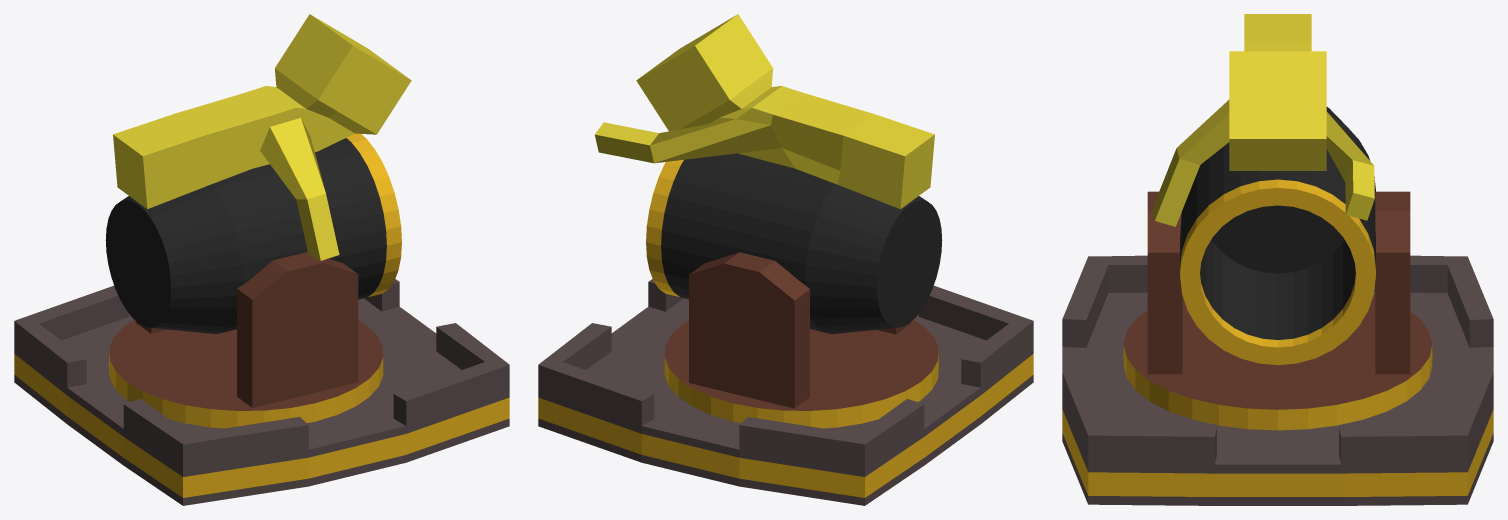
Rendered from CannonTowerUpgrade.fbx.
The picture shows the model from 3 angles, left to right: view 1: azimuth 30°, elevation 25°; view 2: azimuth 150°, elevation 25°; view 3: azimuth 270°, elevation 25°; orthographic projection. The views are drawn at different scales.
Visible parts, largest first — view 1: Cannon, Cannon Tower; view 2: Cannon, Cannon Tower; view 3: Cannon, Cannon Tower.
Part boxes in pixels (x1,y1,x2,y2): Cannon: (105,14,411,428); Cannon Tower: (14,279,509,505); Cannon: (594,14,942,428); Cannon Tower: (538,279,1033,505); Cannon: (1123,14,1432,430); Cannon Tower: (1062,255,1493,505).
Bounding box in the file's own units: 335 × 344 × 335.
